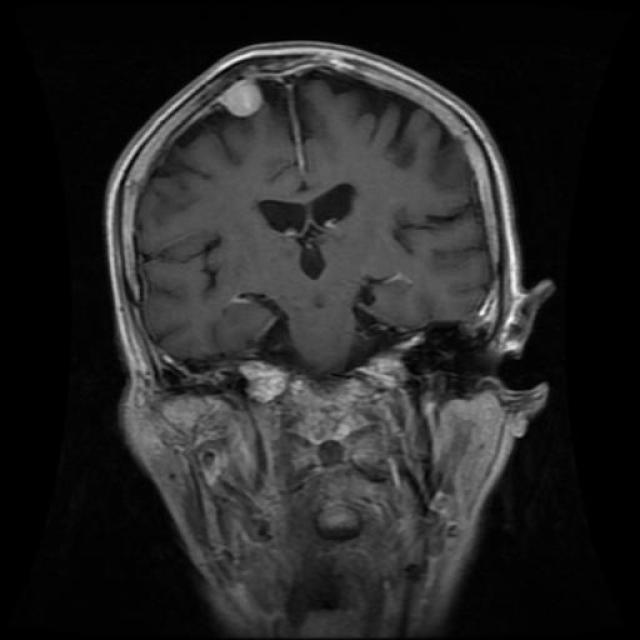Tumor: (220, 80, 264, 120)
